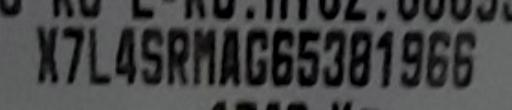letter: (318, 27, 348, 89), (82, 25, 114, 83), (136, 27, 168, 85), (32, 25, 62, 83), (58, 23, 86, 85), (294, 27, 322, 87), (216, 23, 242, 87), (190, 25, 218, 83), (346, 27, 374, 85), (398, 25, 424, 87), (424, 27, 450, 89), (242, 27, 270, 83), (112, 24, 138, 84), (164, 24, 190, 84), (450, 27, 476, 87), (374, 25, 398, 87), (270, 25, 294, 85)
